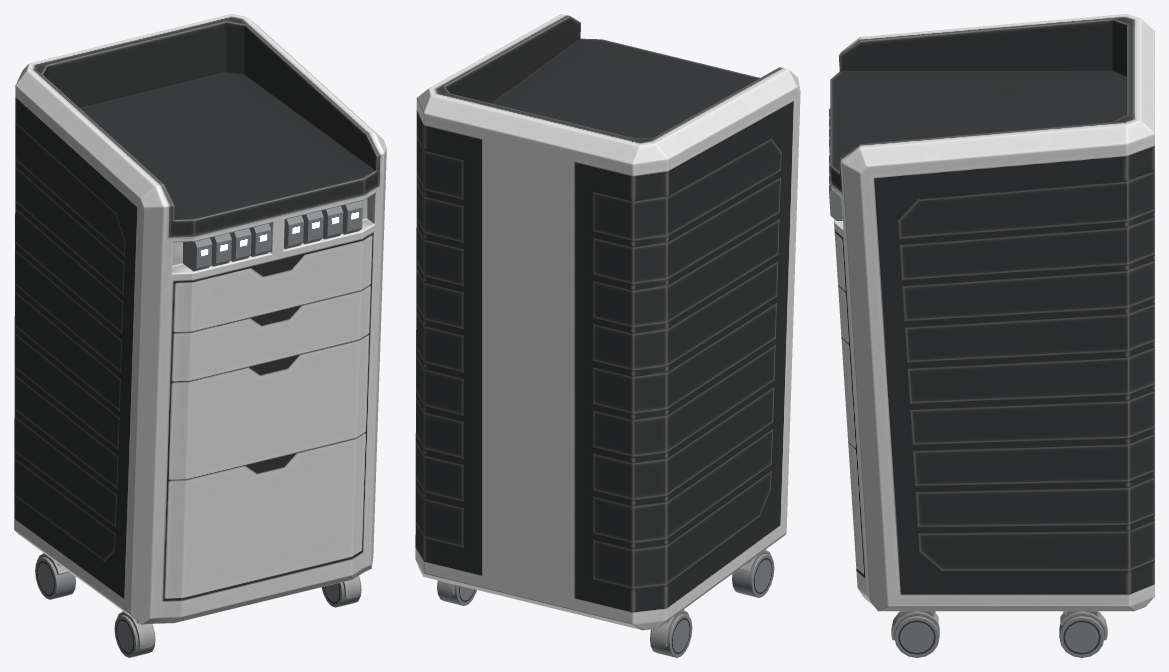
Rendered from MedCaseCart02.FBX.
The picture shows the model from 3 angles, left to right: view 1: azimuth 30°, elevation 25°; view 2: azimuth 150°, elevation 25°; view 3: azimuth 270°, elevation 25°; orthographic projection. The views are drawn at different scales.
Parts seen in each view (by area): view 1: MedCaseCart02; view 2: MedCaseCart02; view 3: MedCaseCart02.
Boxes of the visible parts, <box> form: MedCaseCart02: <box>14,14,386,657</box>; MedCaseCart02: <box>415,14,800,657</box>; MedCaseCart02: <box>829,14,1154,657</box>.
Size of what is drawn, in the model's own units: 0.5803 by 1.17 by 0.6483.
